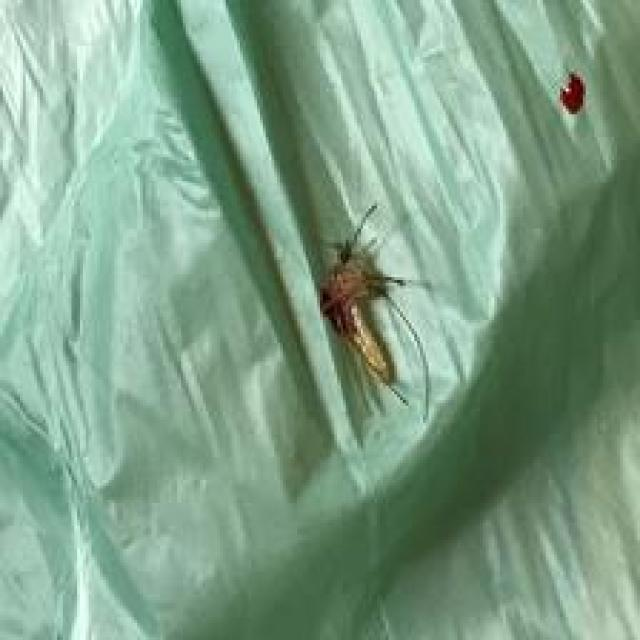Culex: (316, 202, 433, 424)
